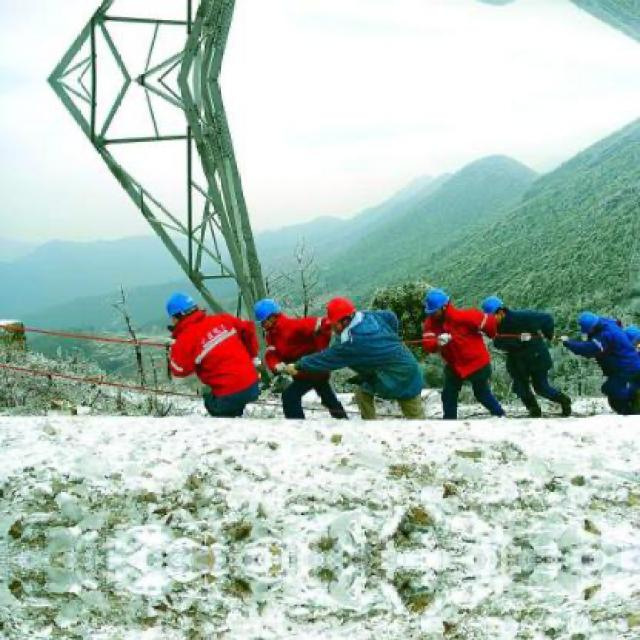helmet: (320, 296, 358, 335), (162, 287, 198, 327), (249, 296, 282, 330), (420, 288, 454, 320), (572, 307, 602, 335), (477, 293, 506, 321), (618, 321, 637, 347)
